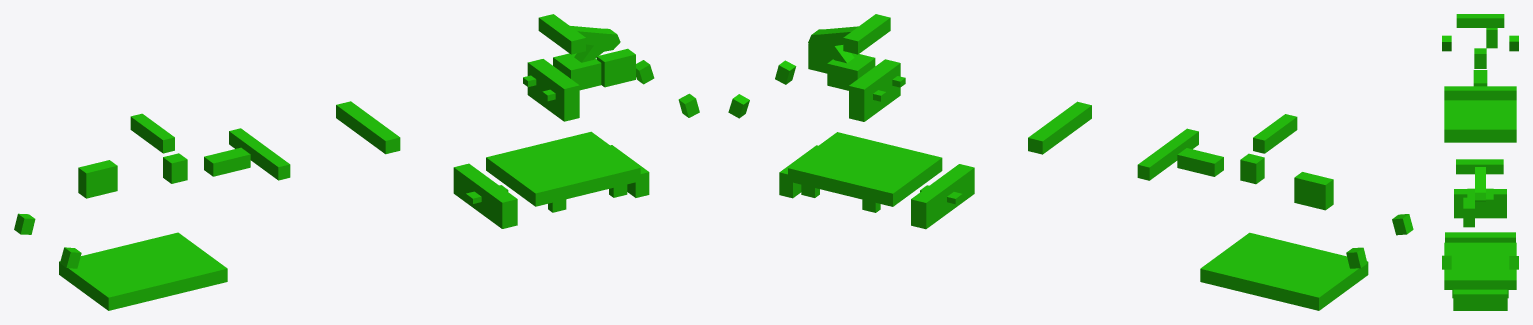
File: gizmo.fbx
The picture shows the model from 3 angles, left to right: view 1: azimuth 30°, elevation 25°; view 2: azimuth 150°, elevation 25°; view 3: azimuth 270°, elevation 25°; orthographic projection. The views are drawn at different scales.
Visible parts, largest first — view 1: sel003giz, sel010giz, sel002giz, sel011giz, sel009giz, sel001giz, sel008giz, sel006giz, sel012giz, sel004giz, sel007giz; view 2: sel003giz, sel010giz, sel002giz, sel009giz, sel001giz, sel011giz, sel008giz, sel006giz, sel012giz, sel004giz, sel007giz; view 3: sel003giz, sel010giz, sel008giz, sel009giz, sel001giz, sel002giz, sel004giz, sel012giz, sel006giz, sel011giz, sel007giz.
Part boxes in pixels (<box>): sel003giz: <box>59,131,640,310</box>; sel010giz: <box>229,101,400,180</box>; sel002giz: <box>453,163,517,228</box>; sel011giz: <box>78,48,635,198</box>; sel009giz: <box>553,26,620,90</box>; sel001giz: <box>527,59,579,121</box>; sel008giz: <box>163,145,649,212</box>; sel006giz: <box>14,60,699,268</box>; sel012giz: <box>538,14,585,54</box>; sel004giz: <box>130,113,174,153</box>; sel007giz: <box>204,147,250,176</box>; sel003giz: <box>788,132,1368,310</box>; sel010giz: <box>1028,101,1198,180</box>; sel002giz: <box>911,164,974,229</box>; sel009giz: <box>808,26,875,90</box>; sel001giz: <box>849,59,900,121</box>; sel011giz: <box>808,43,1333,210</box>; sel008giz: <box>779,145,1264,212</box>; sel006giz: <box>728,60,1413,268</box>; sel012giz: <box>843,14,890,54</box>; sel004giz: <box>1253,114,1297,153</box>; sel007giz: <box>1177,148,1223,176</box>; sel003giz: <box>1444,100,1516,289</box>; sel010giz: <box>1444,86,1516,139</box>; sel008giz: <box>1452,48,1508,310</box>; sel009giz: <box>1467,167,1493,215</box>; sel001giz: <box>1454,189,1506,218</box>; sel002giz: <box>1445,232,1515,242</box>; sel004giz: <box>1456,14,1504,27</box>; sel012giz: <box>1456,159,1503,174</box>; sel006giz: <box>1442,35,1518,269</box>; sel011giz: <box>1463,28,1497,227</box>; sel007giz: <box>1473,70,1487,86</box>.
Bounding box in the file's own units: 2508 × 646 × 360.
